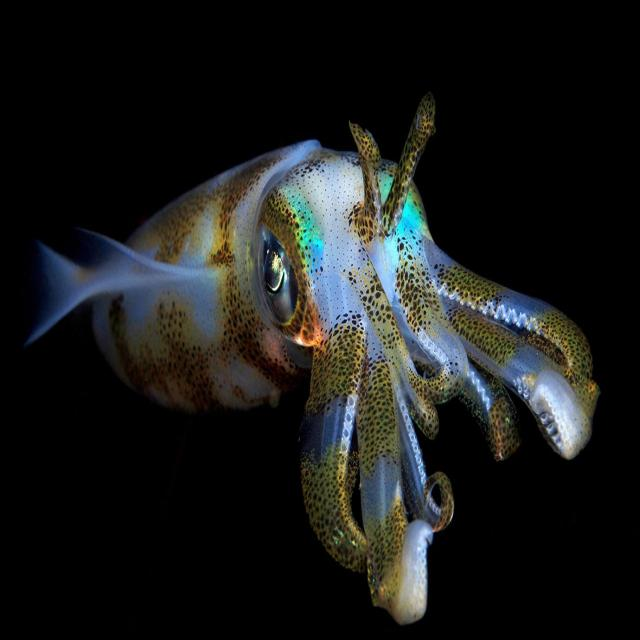squid: (31, 96, 597, 623)
